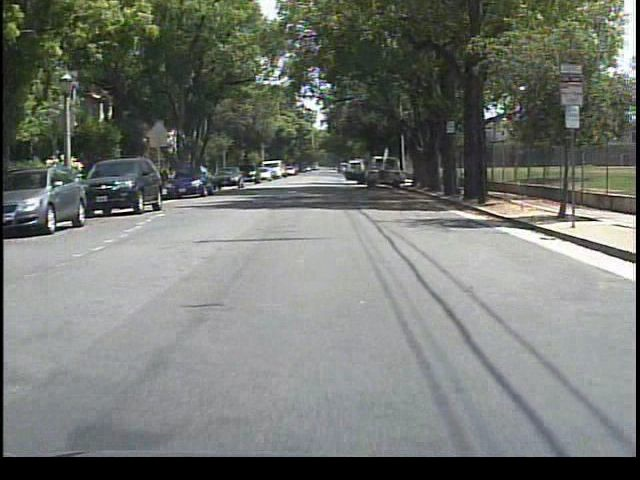person: (351, 161, 367, 187)
